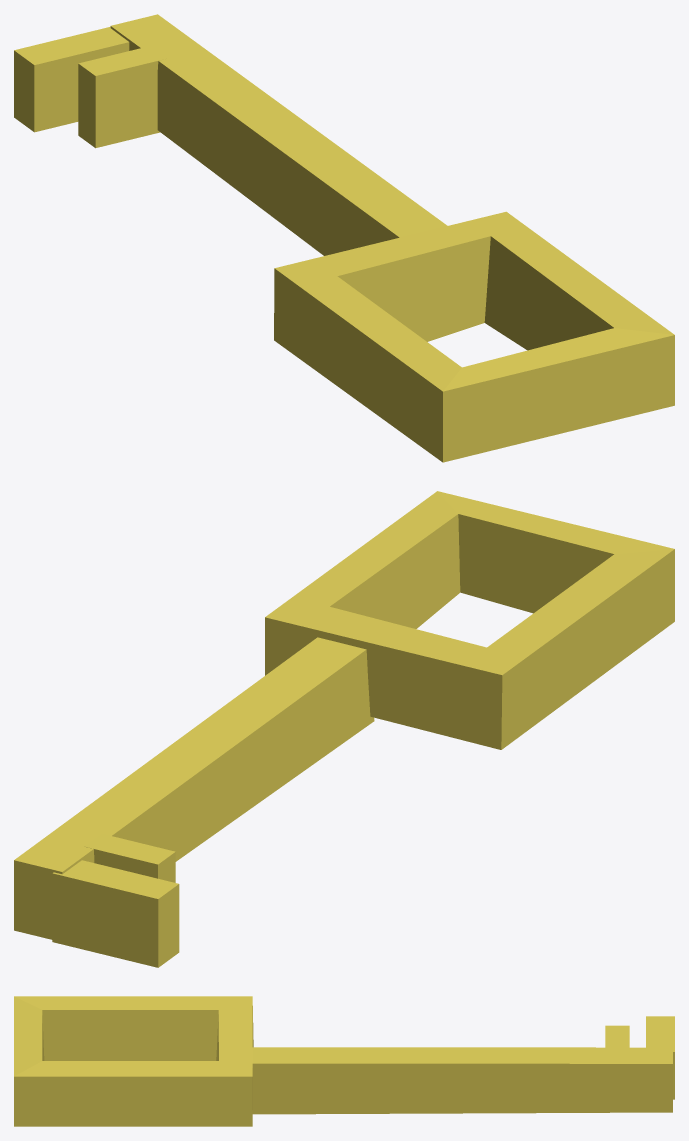
The model's file is goldenKey.glb.
3 renders of one model, top to bottom at view 1: azimuth 30°, elevation 25°; view 2: azimuth 150°, elevation 25°; view 3: azimuth 270°, elevation 25°, orthographic. The views are drawn at different scales.
Parts seen in each view (by area): view 1: Cube.003; view 2: Cube.003; view 3: Cube.003.
Part boxes in pixels (<box>): Cube.003: <box>14,14,674,462</box>; Cube.003: <box>14,491,674,967</box>; Cube.003: <box>14,996,674,1126</box>.
Size of the model in its own units: 3.09 by 1.2 by 10.75.
